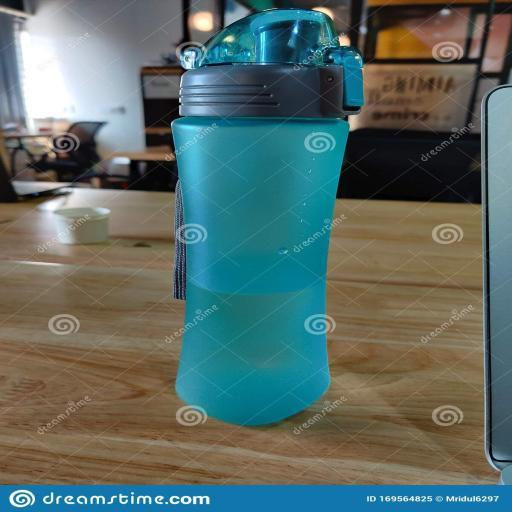bottle: (162, 3, 351, 433)
